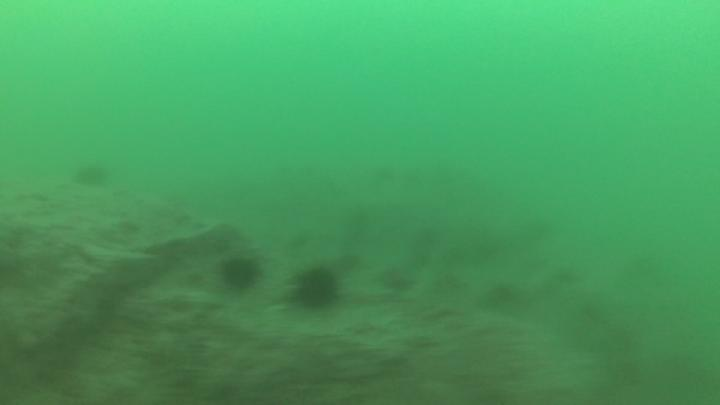echinus: (217, 250, 266, 295), (296, 264, 342, 311), (70, 160, 112, 191)
